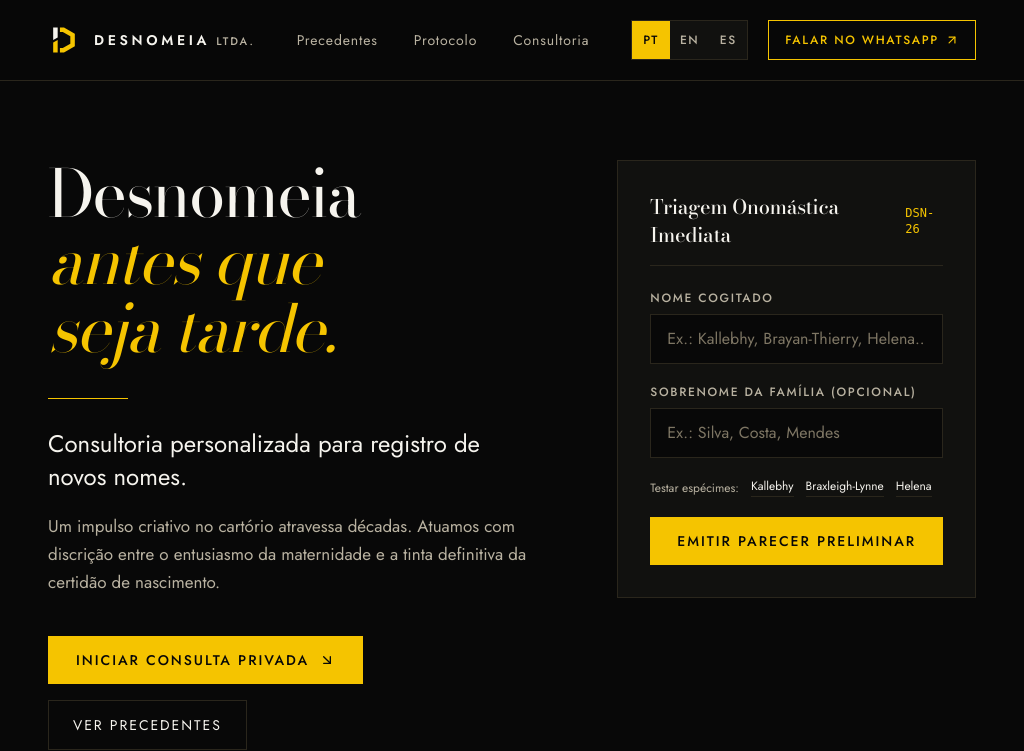
Scenario: Desnomeia Landing Page — i18n, Concierge & 5s JUSC Easter Egg › switches cleanly between PT, EN, and ES and syncs html lang & title
This screenshot has width=1024, height=751.
What coordinates should you click on to do the following:
click the button "EN"
I would click on:
 (690, 40)
Its box is [670,21,709,59].
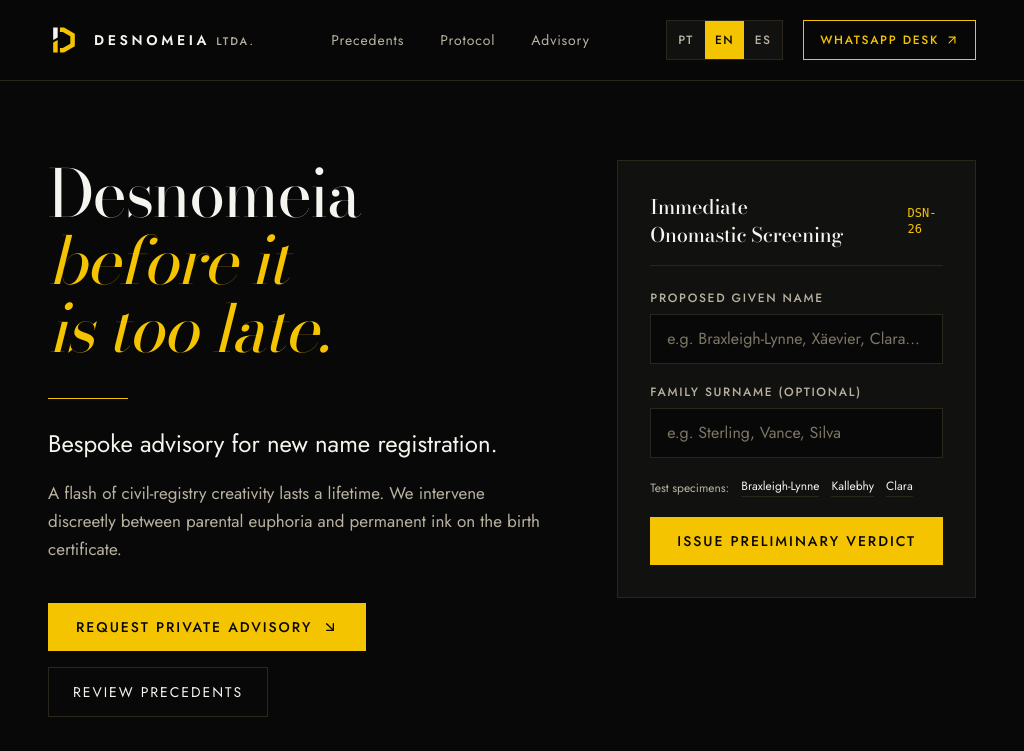
What coordinates should you click on to do the following:
click the button "ES"
I would click on:
 (763, 40)
Its box is [744,21,782,59].
(page scrolled)
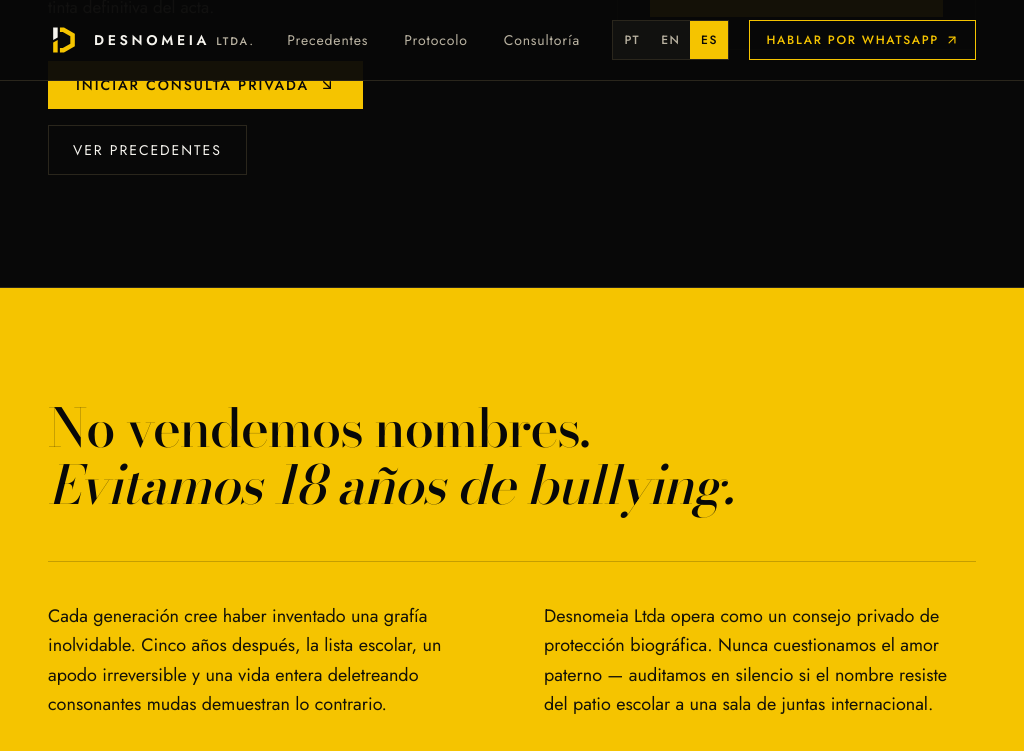
Expected: the text "No vendemos nombres." is shown, [48,387,590,468]
